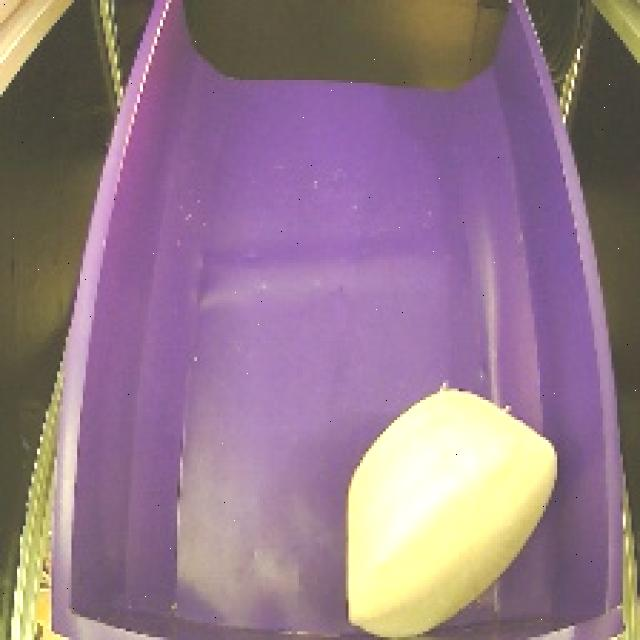white_radish: (318, 348, 566, 640)
